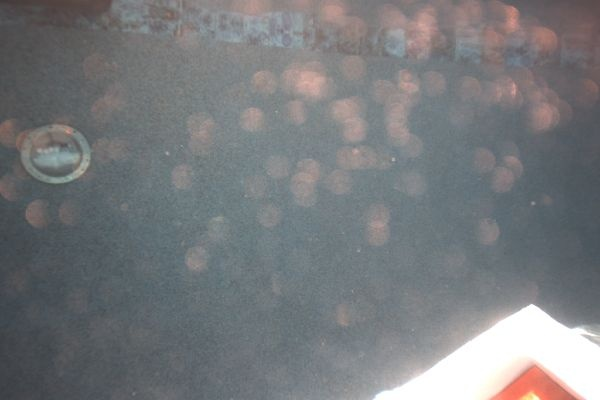bin: (372, 304, 600, 400)
bin_rouge: (488, 366, 576, 400)
